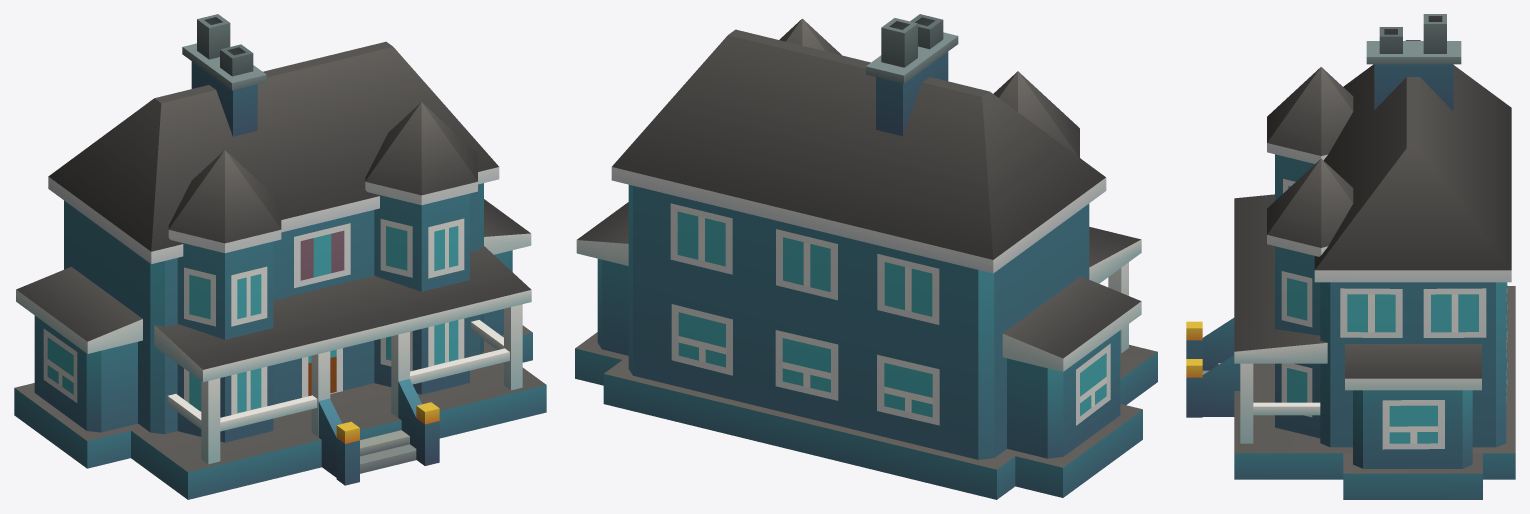
The model's file is Building_cartoon_3.fbx.
3 views of the same model, side by side, from view 1: azimuth 30°, elevation 25°; view 2: azimuth 150°, elevation 25°; view 3: azimuth 270°, elevation 25° (orthographic). The views are drawn at different scales.
Parts seen in each view (by area): view 1: Building_cartoon_3; view 2: Building_cartoon_3; view 3: Building_cartoon_3.
Boxes of the visible parts, x1,y1,x2,y2 form: Building_cartoon_3: (14,14,546,499); Building_cartoon_3: (575,14,1157,499); Building_cartoon_3: (1186,14,1515,499).
Bounding box in the file's own units: 1587 × 1260 × 1062.
